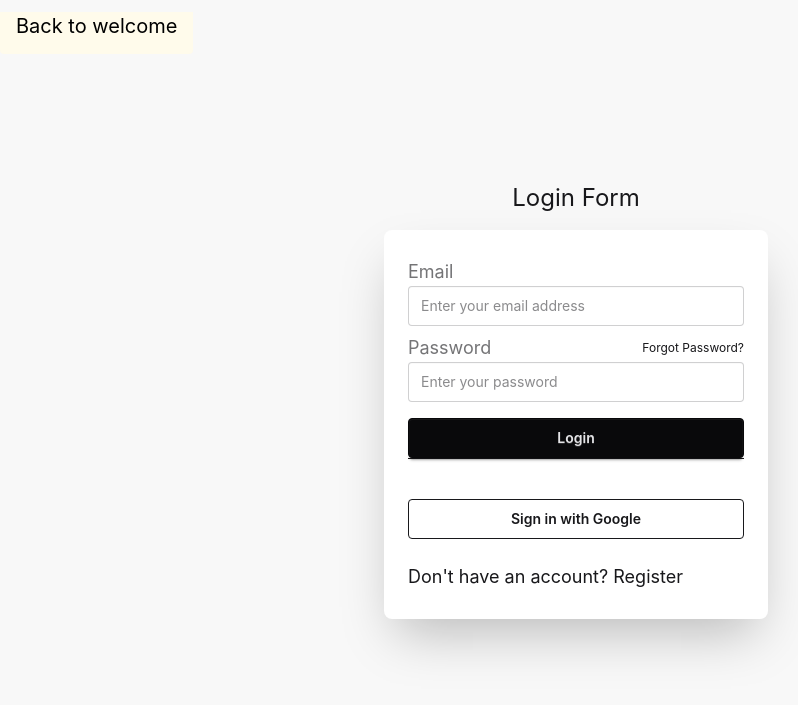
Test case: LoginPage › displays an email login error without navigating
Step 1. Click the button "Login" → click(576, 438), box [408,418,744,458]
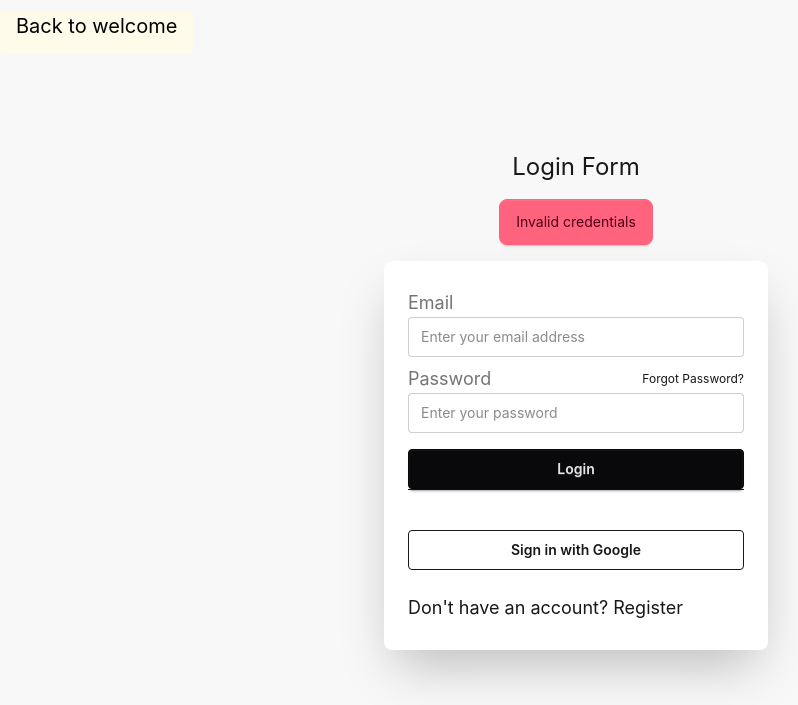
Expected: the text "Invalid credentials" is shown, [499,198,653,244]
